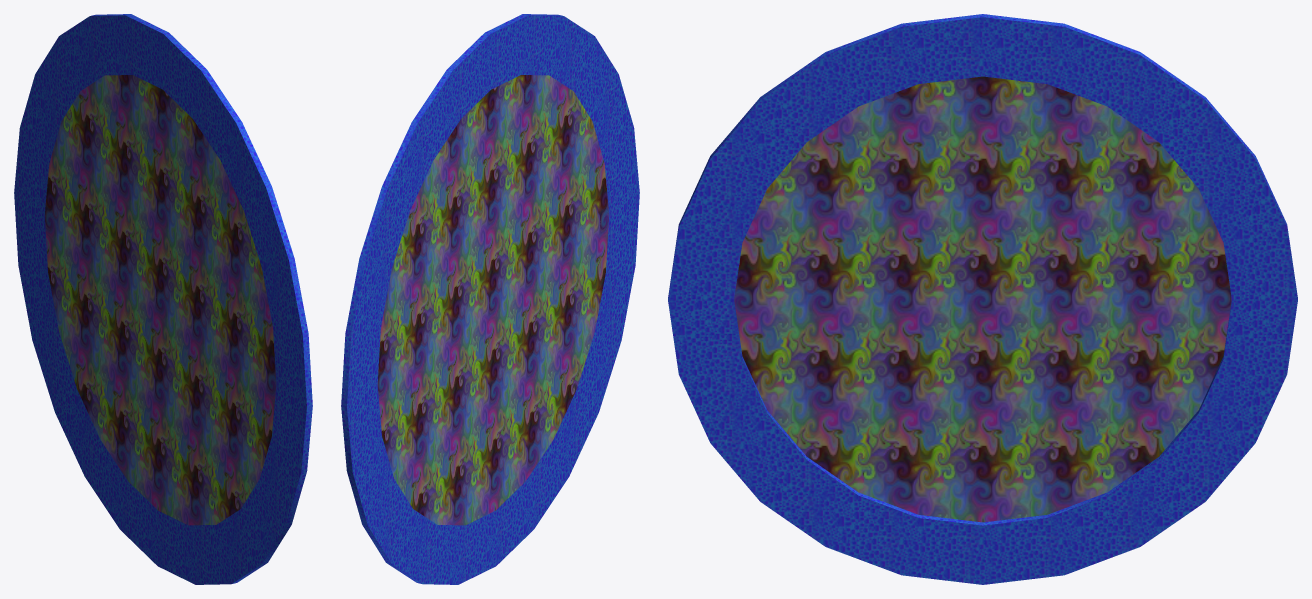
The model's file is portal.fbx.
3 views of the same model, side by side, from view 1: azimuth 30°, elevation 25°; view 2: azimuth 150°, elevation 25°; view 3: azimuth 270°, elevation 25° (orthographic). The views are drawn at different scales.
Visible parts, largest first — view 1: ._001; view 2: ._001; view 3: ._001.
Boxes of the visible parts, x1,y1,x2,y2 form: ._001: [14, 14, 312, 584]; ._001: [341, 14, 639, 584]; ._001: [668, 14, 1297, 584].
Bounding box in the file's own units: 21 × 923 × 923.
2 materials, 2 textured.
